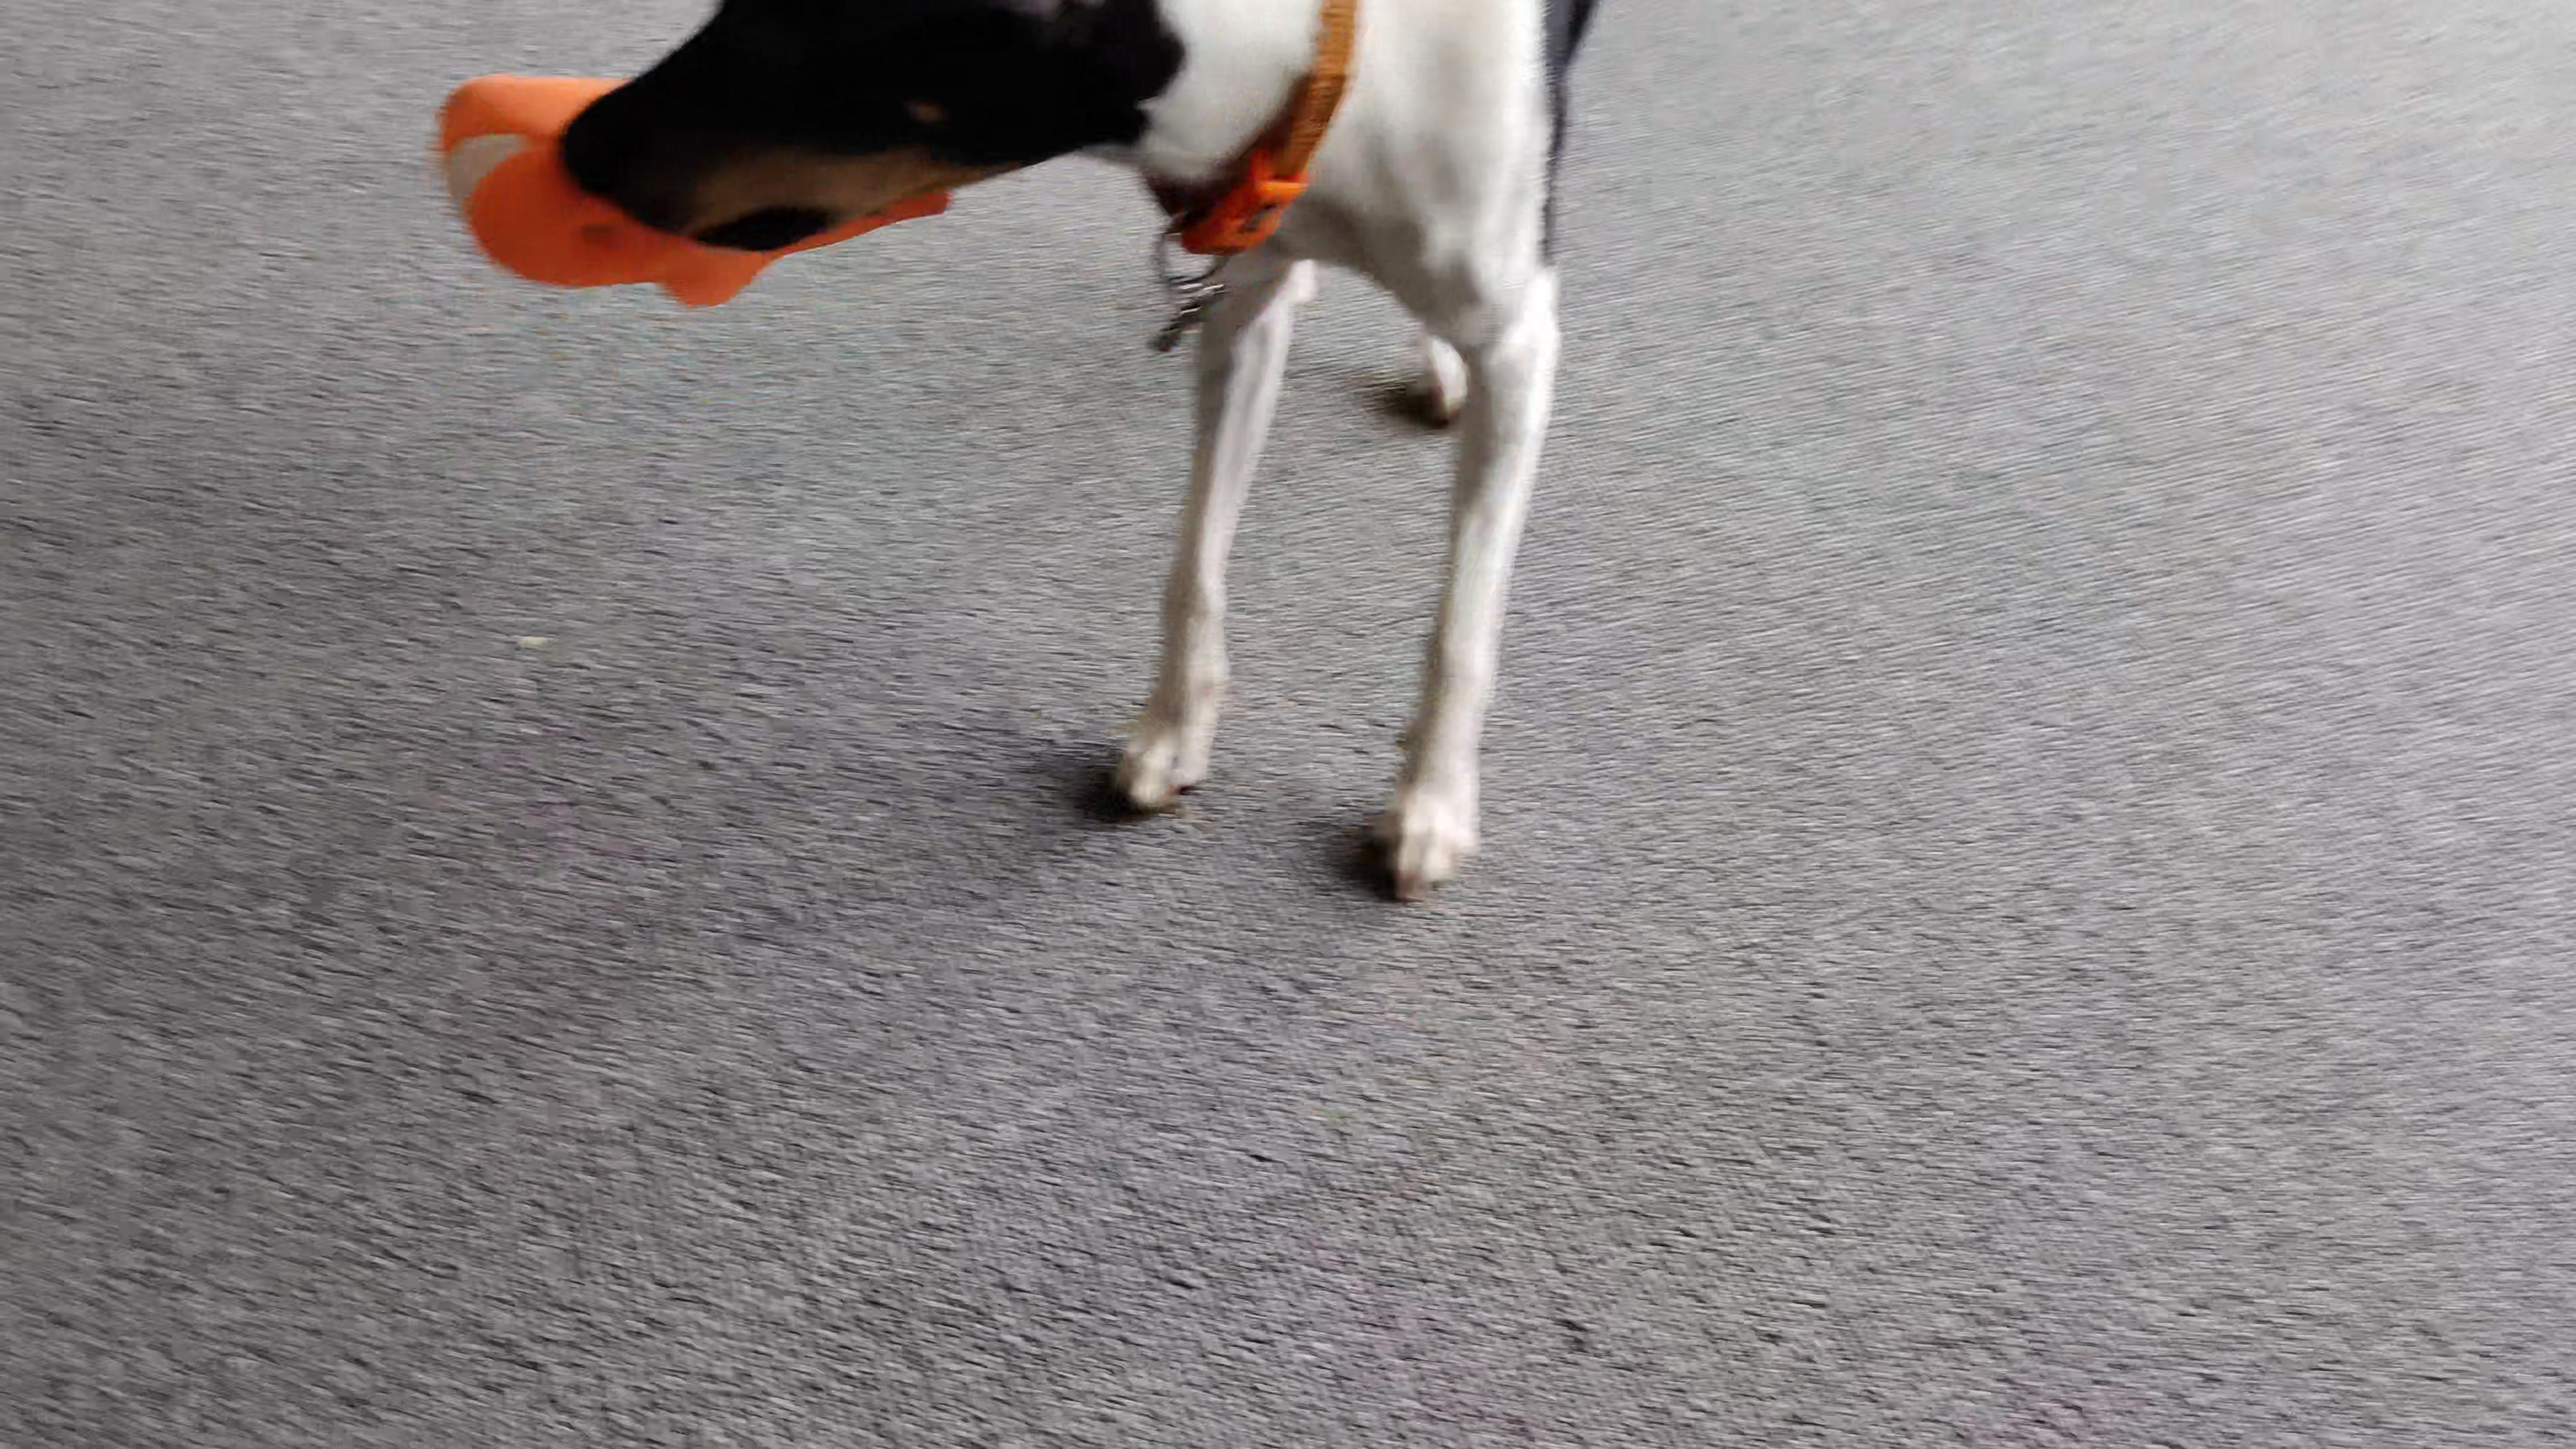Dog: (541, 0, 1624, 902)
